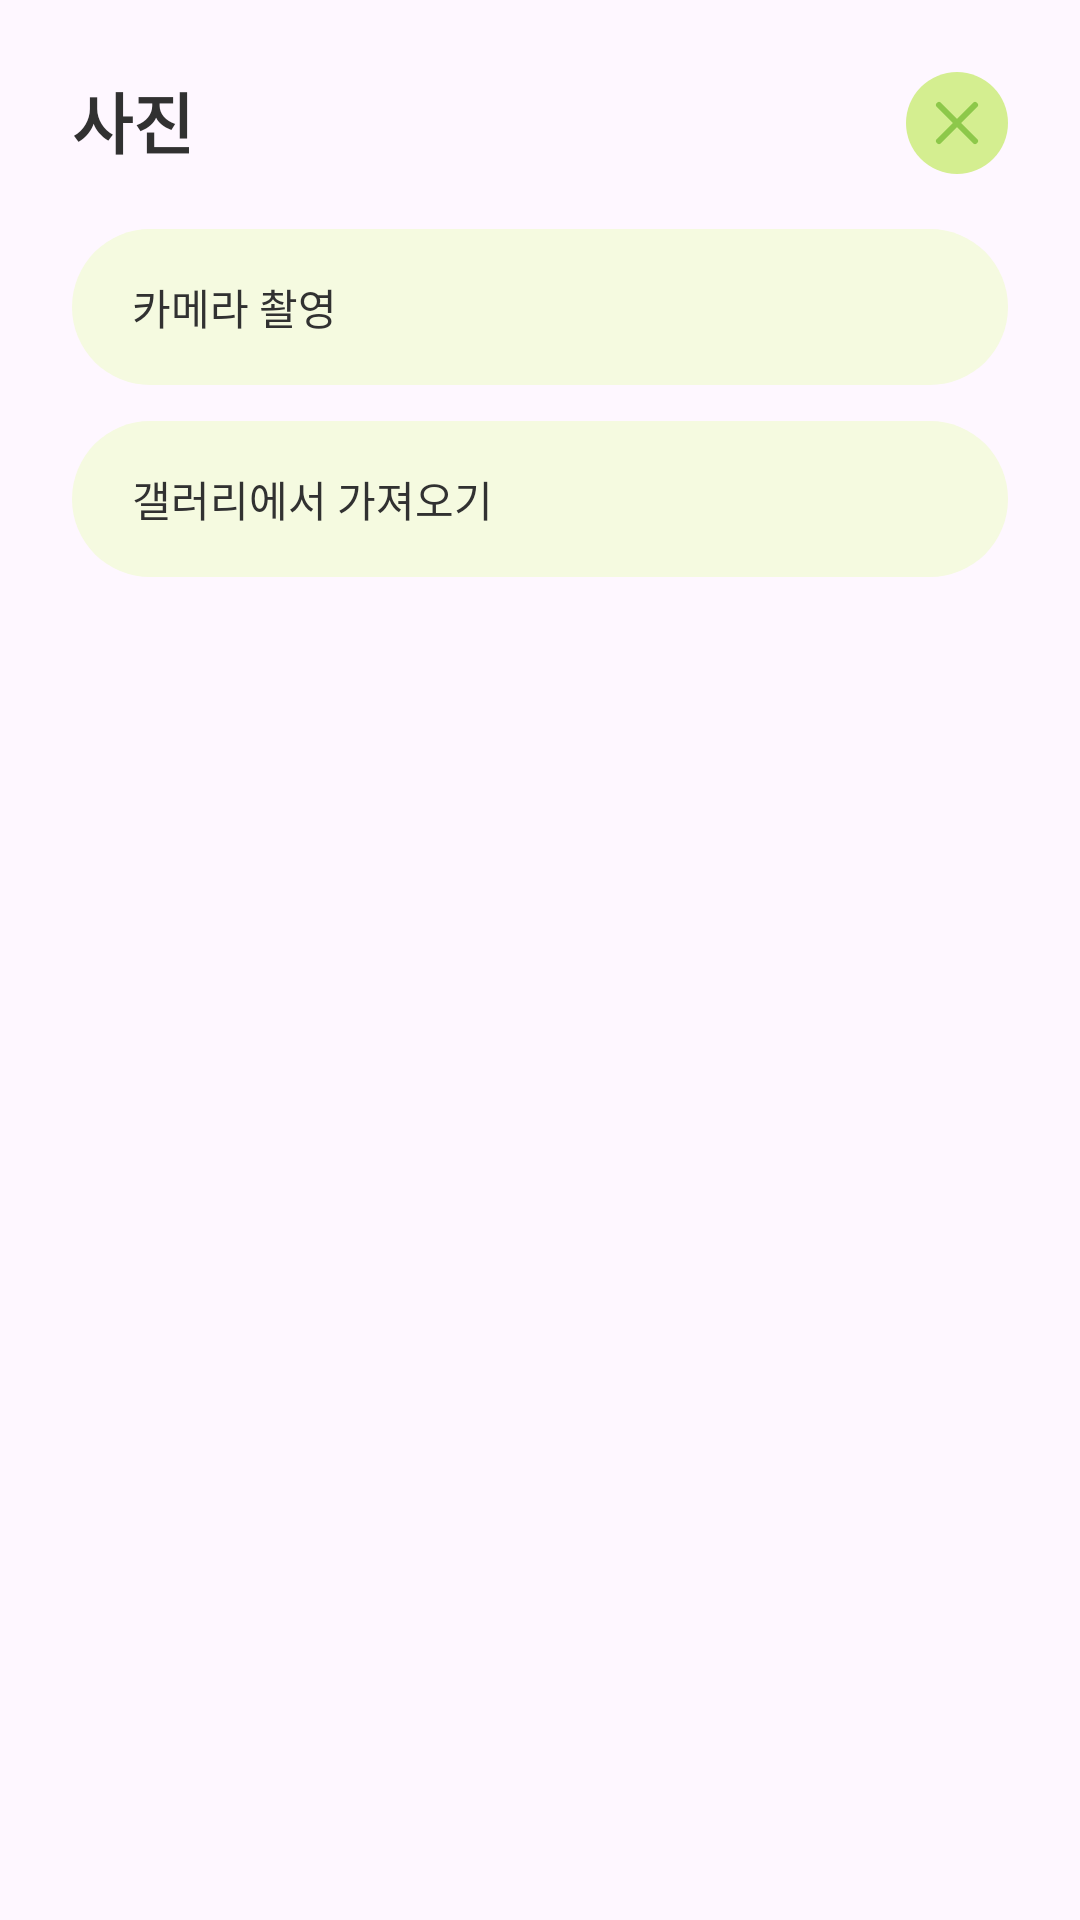

Where to tap for icons on this 1080px×1920px app screen, as [x,y]:
닫기: [957,123]
